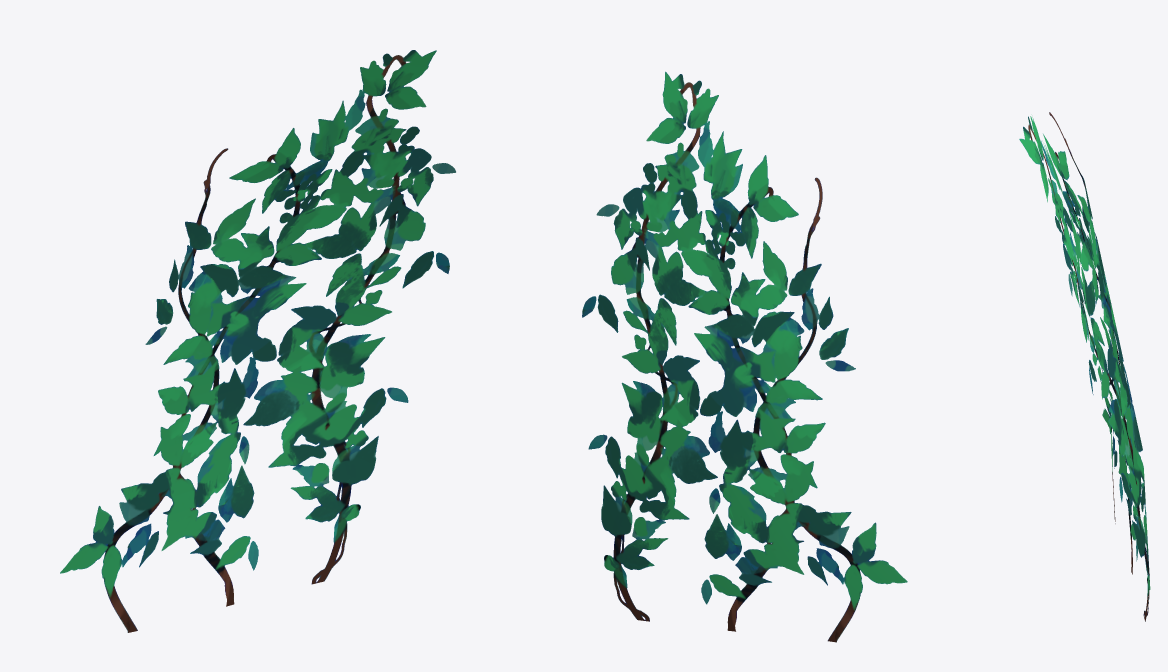
File: M_Lierre.FBX
3 renders of one model, left to right at view 1: azimuth 30°, elevation 25°; view 2: azimuth 150°, elevation 25°; view 3: azimuth 270°, elevation 25°, orthographic. The views are drawn at different scales.
Parts seen in each view (by area): view 1: Object056; view 2: Object056; view 3: Object056.
Boxes of the visible parts, x1,y1,x2,y2 form: Object056: (60,50,455,632); Object056: (582,71,907,642); Object056: (1019,112,1150,621).
Size of the model in its own units: 338 by 446 by 126.
